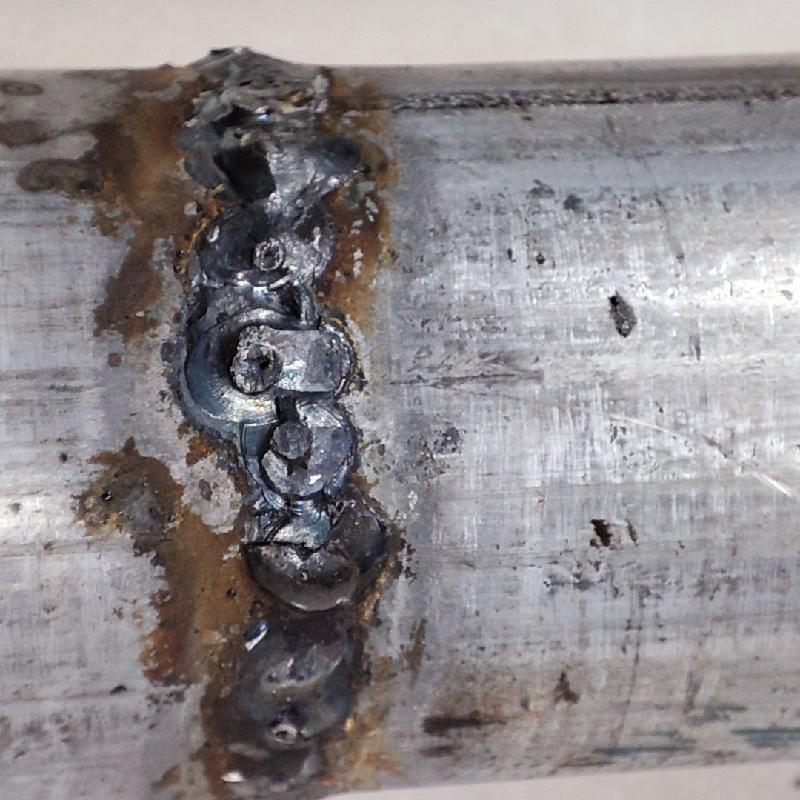Surface_pores: (228, 337, 292, 385), (253, 238, 297, 275), (263, 714, 307, 750), (218, 117, 263, 148)
Weld: (213, 531, 371, 616)
wrong_size: (165, 33, 371, 795)
